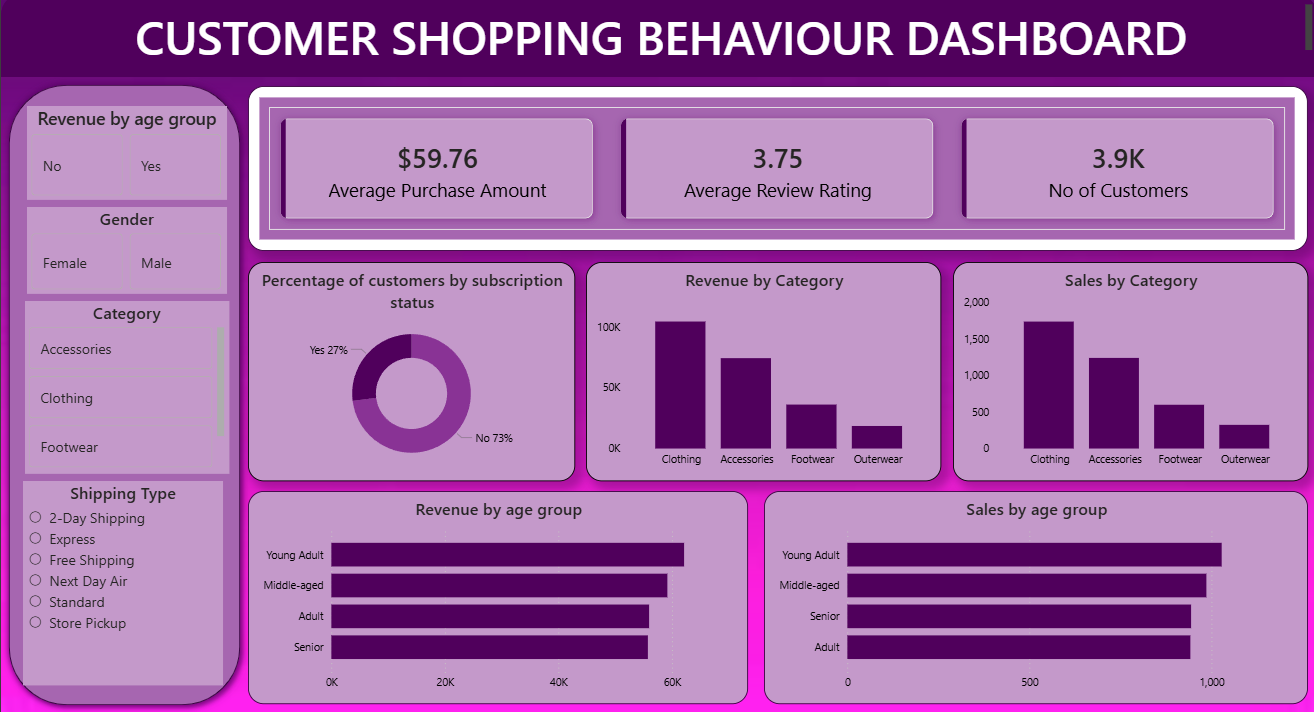

What the dashboard file says about the page in this screenshot:
{"tool":"powerbi","page":{"name":"Page 1","canvas":[1500,820],"ordinal":0},"visuals":[{"type":"cardVisual","fields":{"Data":["public customer.Average  Purchase Amount","public customer.Average Review Rating","public customer.No of Customers"]},"box":[281.5,104.9,1208.2,188.1],"z":0},{"type":"shape","box":[0,0,1500,94.6],"z":1000},{"type":"textbox","box":[13.7,6.8,1486.3,70.7],"z":2000},{"type":"donutChart","title":"Percentage of customers by subscription status","fields":{"Category":["public customer.subscription_status"],"Y":["CountNonNull(public customer.customer_id)"]},"box":[281.5,305.5,372.7,249.6],"z":3000},{"type":"clusteredColumnChart","title":"Revenue by Category","fields":{"Category":["public customer.category"],"Y":["Sum(public customer.purchase_amount)"]},"box":[666.8,305.5,404.6,249.6],"z":4000},{"type":"clusteredColumnChart","title":"Sales by Category","fields":{"Y":["CountNonNull(public customer.customer_id)"],"Category":["public customer.category"]},"box":[1085.1,305.5,404.6,249.6],"z":5000},{"type":"shape","box":[0,94.6,281.5,724.9],"z":6000},{"type":"advancedSlicerVisual","title":"Revenue by age group","fields":{"Values":["public customer.subscription_status"]},"box":[29.6,127.7,228,107.1],"z":7000},{"type":"advancedSlicerVisual","title":"Gender","fields":{"Values":["public customer.gender"]},"box":[29.6,242.8,228,99.2],"z":8000},{"type":"advancedSlicerVisual","title":"Category","fields":{"Values":["public customer.category"]},"box":[27.4,349.9,232.5,197.2],"z":9000},{"type":"listSlicer","title":"Shipping Type","fields":{"Values":["public customer.shipping_type"]},"box":[25.1,555.1,228,232.5],"z":10000},{"type":"clusteredBarChart","title":"Revenue by age group","fields":{"Category":["public customer.age_group"],"Y":["Sum(public customer.purchase_amount)"]},"box":[281.5,566.5,569.9,242.8],"z":11000},{"type":"clusteredBarChart","title":"Sales by age group","fields":{"Category":["public customer.age_group"],"Y":["CountNonNull(public customer.customer_id)"]},"box":[869.7,566.5,620.1,242.8],"z":12000}]}

Visuals, with their boxes in screenshot pixels (x1, y1, x2, y2), scaled from the page's 1500x820 canvas onto the 1314x712 screenshot:
cardVisual - public customer.Average  Purchase Amount x public customer.Average Review Rating: <region>247, 91, 1305, 254</region>
shape: <region>0, 0, 1313, 82</region>
textbox: <region>12, 6, 1313, 67</region>
"Percentage of customers by subscription status" donutChart: <region>247, 265, 573, 482</region>
"Revenue by Category" clusteredColumnChart: <region>584, 265, 939, 482</region>
"Sales by Category" clusteredColumnChart: <region>951, 265, 1305, 482</region>
shape: <region>0, 82, 247, 711</region>
"Revenue by age group" advancedSlicerVisual: <region>26, 111, 226, 204</region>
"Gender" advancedSlicerVisual: <region>26, 211, 226, 297</region>
"Category" advancedSlicerVisual: <region>24, 304, 228, 475</region>
"Shipping Type" listSlicer: <region>22, 482, 222, 684</region>
"Revenue by age group" clusteredBarChart: <region>247, 492, 746, 703</region>
"Sales by age group" clusteredBarChart: <region>762, 492, 1305, 703</region>
